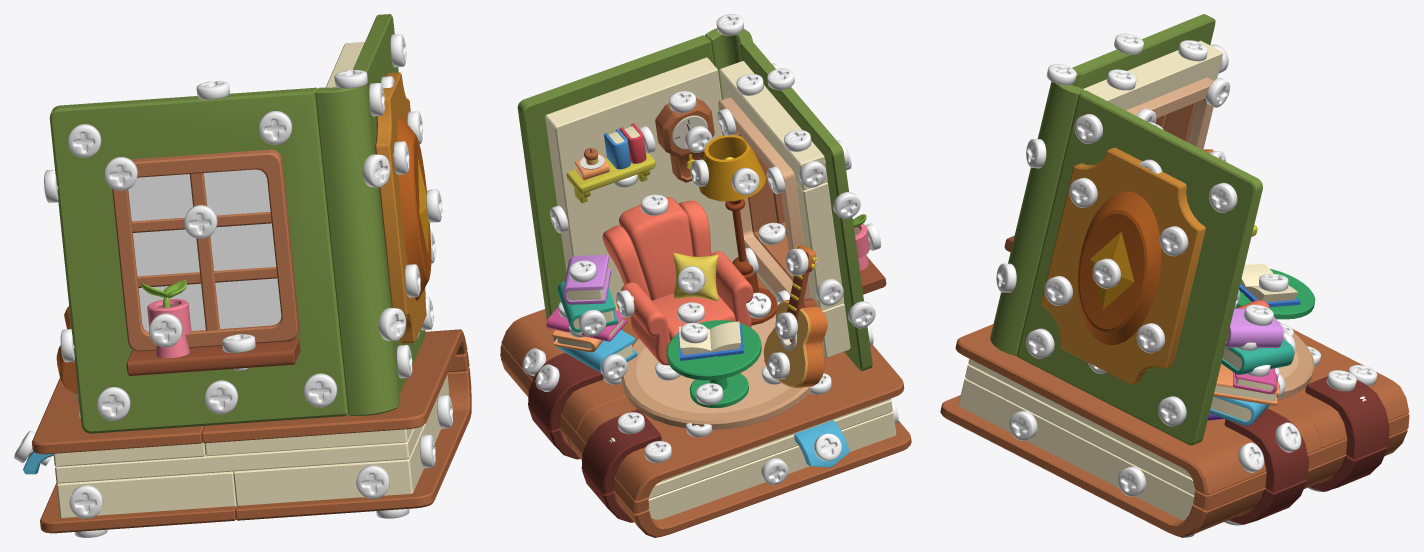
Rendered from SpellBook01_GroupD.fbx.
The picture shows the model from 3 angles, left to right: view 1: azimuth 30°, elevation 25°; view 2: azimuth 150°, elevation 25°; view 3: azimuth 270°, elevation 25°; orthographic projection. The views are drawn at different scales.
Parts seen in each view (by area): view 1: SpellBook01_019, SpellBook01_014, SpellBook01_024, Screw (×15), SpellBook01_035, SpellBook01_033, SpellBook01_018, SpellBook01_032, SpellBook01_030, SpellBook01_031, SpellBook01_013, SpellBook01_020 (+3 smaller); view 2: Screw (×30), SpellBook01_016, SpellBook01_006, SpellBook01_030, SpellBook01_032, SpellBook01_020, SpellBook01_010, SpellBook01_019, SpellBook01_025, SpellBook01_002, SpellBook01_031, SpellBook01_033 (+25 smaller); view 3: SpellBook01_020, SpellBook01_018, SpellBook01_035, SpellBook01_033, Screw (×13), SpellBook01_024, SpellBook01_031, SpellBook01_030, SpellBook01_022, SpellBook01_027, SpellBook01_019, SpellBook01_026 (+13 smaller).
Boxes of the visible parts, <box> form: SpellBook01_019: <box>49,87,348,433</box>; SpellBook01_014: <box>112,149,299,351</box>; SpellBook01_024: <box>315,84,400,415</box>; Screw (×15): <box>68,70,406,518</box>; SpellBook01_035: <box>233,368,471,520</box>; SpellBook01_033: <box>201,329,467,456</box>; SpellBook01_018: <box>375,72,431,343</box>; SpellBook01_032: <box>40,471,236,533</box>; SpellBook01_030: <box>31,378,205,466</box>; SpellBook01_031: <box>55,351,469,483</box>; SpellBook01_013: <box>126,337,300,375</box>; SpellBook01_020: <box>353,14,425,394</box>; Screw (×30): <box>522,14,875,485</box>; SpellBook01_016: <box>545,57,738,301</box>; SpellBook01_006: <box>602,197,753,365</box>; SpellBook01_030: <box>577,345,904,500</box>; SpellBook01_032: <box>568,411,911,537</box>; SpellBook01_020: <box>517,35,713,319</box>; SpellBook01_010: <box>621,314,824,430</box>; SpellBook01_019: <box>741,41,872,371</box>; SpellBook01_025: <box>718,97,811,298</box>; SpellBook01_002: <box>763,245,827,387</box>; SpellBook01_031: <box>500,344,892,513</box>; SpellBook01_033: <box>501,276,768,431</box>; SpellBook01_020: <box>1016,90,1262,445</box>; SpellBook01_018: <box>1041,147,1205,384</box>; SpellBook01_035: <box>940,378,1265,537</box>; SpellBook01_033: <box>955,324,1321,494</box>; Screw (×13): <box>1009,114,1301,496</box>; SpellBook01_024: <box>990,73,1083,355</box>; SpellBook01_031: <box>965,364,1409,510</box>; SpellBook01_030: <box>1277,322,1409,448</box>; SpellBook01_022: <box>1083,41,1223,110</box>; SpellBook01_027: <box>1305,376,1389,459</box>; SpellBook01_019: <box>1072,14,1215,128</box>; SpellBook01_026: <box>1224,408,1308,492</box>.
Bounding box in the file's own units: 10 × 10.16 × 9.89.
Materials: 4 (2 with a texture image).
